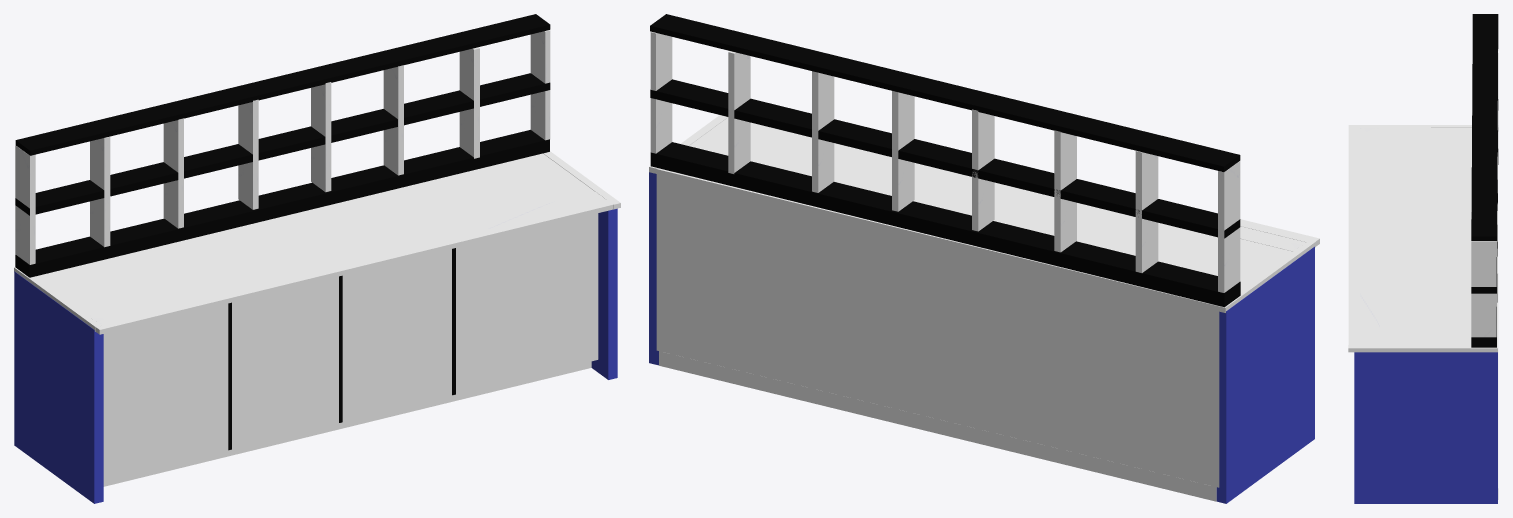
The model's file is meja2.fbx.
3 renders of one model, left to right at view 1: azimuth 30°, elevation 25°; view 2: azimuth 150°, elevation 25°; view 3: azimuth 270°, elevation 25°, orthographic. The views are drawn at different scales.
Visible parts, largest first — view 1: nodes[0].001, nodes[3].001, nodes[34], nodes[38], nodes[37], nodes[5].001, nodes[6].001, nodes[7].001, nodes[4].001, nodes[35], nodes[39], nodes[42] (+6 smaller); view 2: nodes[0].001, nodes[3].001, nodes[34], nodes[38], nodes[37], nodes[7].001, nodes[35], nodes[39], nodes[44], nodes[40], nodes[43], nodes[42] (+5 smaller); view 3: nodes[4].001, nodes[0].001, nodes[38], nodes[6].001, nodes[5].001, nodes[36], nodes[2].001, nodes[34], nodes[1].001, nodes[37], nodes[7].001.
Part boxes in pixels (x1,y1,x2,y2): nodes[0].001: (35, 153, 598, 480); nodes[3].001: (14, 271, 103, 503); nodes[34]: (15, 129, 549, 277); nodes[38]: (15, 14, 550, 155); nodes[37]: (15, 73, 550, 215); nodes[5].001: (96, 200, 613, 334); nodes[6].001: (88, 192, 606, 323); nodes[7].001: (103, 361, 591, 486); nodes[4].001: (591, 208, 617, 379); nodes[35]: (15, 145, 35, 264); nodes[39]: (90, 136, 110, 247); nodes[42]: (311, 82, 331, 192); nodes[0].001: (656, 117, 1292, 487); nodes[3].001: (1216, 246, 1314, 503); nodes[34]: (650, 142, 1240, 307); nodes[38]: (650, 14, 1240, 172); nodes[37]: (650, 79, 1240, 238); nodes[7].001: (659, 351, 1216, 501); nodes[35]: (1218, 161, 1240, 292); nodes[39]: (1135, 150, 1158, 272); nodes[44]: (728, 51, 750, 173); nodes[40]: (1054, 130, 1076, 252); nodes[43]: (812, 71, 834, 192); nodes[42]: (892, 91, 914, 211); nodes[4].001: (1354, 352, 1497, 503); nodes[0].001: (1380, 127, 1497, 344); nodes[38]: (1471, 14, 1498, 240); nodes[6].001: (1360, 127, 1379, 344); nodes[5].001: (1348, 125, 1359, 345); nodes[36]: (1471, 241, 1496, 337); nodes[2].001: (1348, 345, 1497, 352); nodes[34]: (1471, 149, 1498, 347); nodes[1].001: (1355, 125, 1498, 131); nodes[37]: (1471, 99, 1498, 293); nodes[7].001: (1498, 273, 1498, 499).
Size of the model in its own units: 1230 by 686 by 350.
